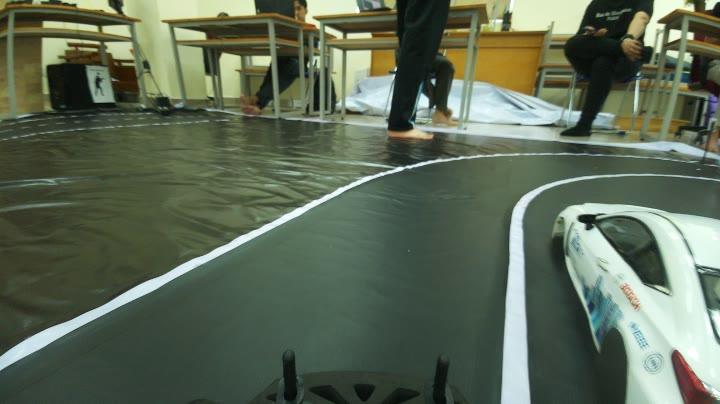car: (543, 178, 720, 404)
